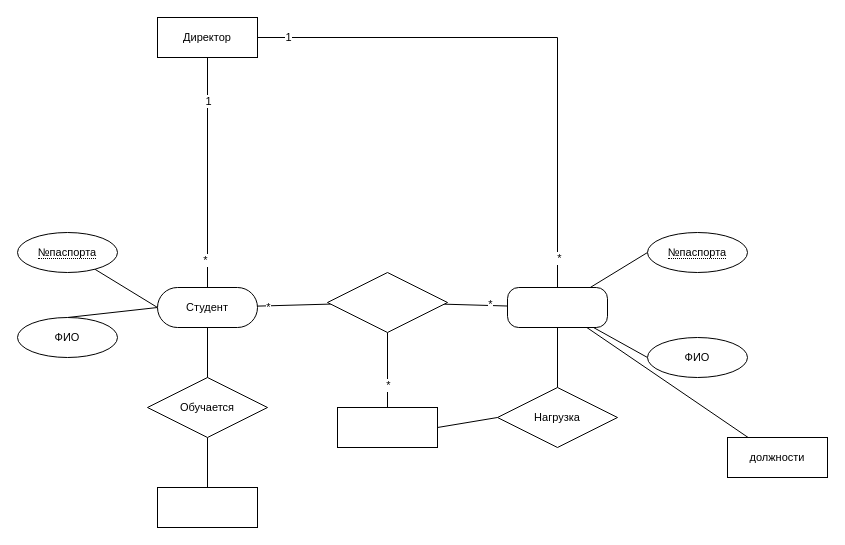
Image size: 845x545. Some labels were removed from this diagram. The shapes that lost their labels are listed below. From the top down, each one's centre as x and y in pixels, then its label:
At point (387, 302): "Relationship".
At point (557, 307): "преподаватель".
At point (387, 427): "Дисциплина".
At point (207, 507): "группа".
